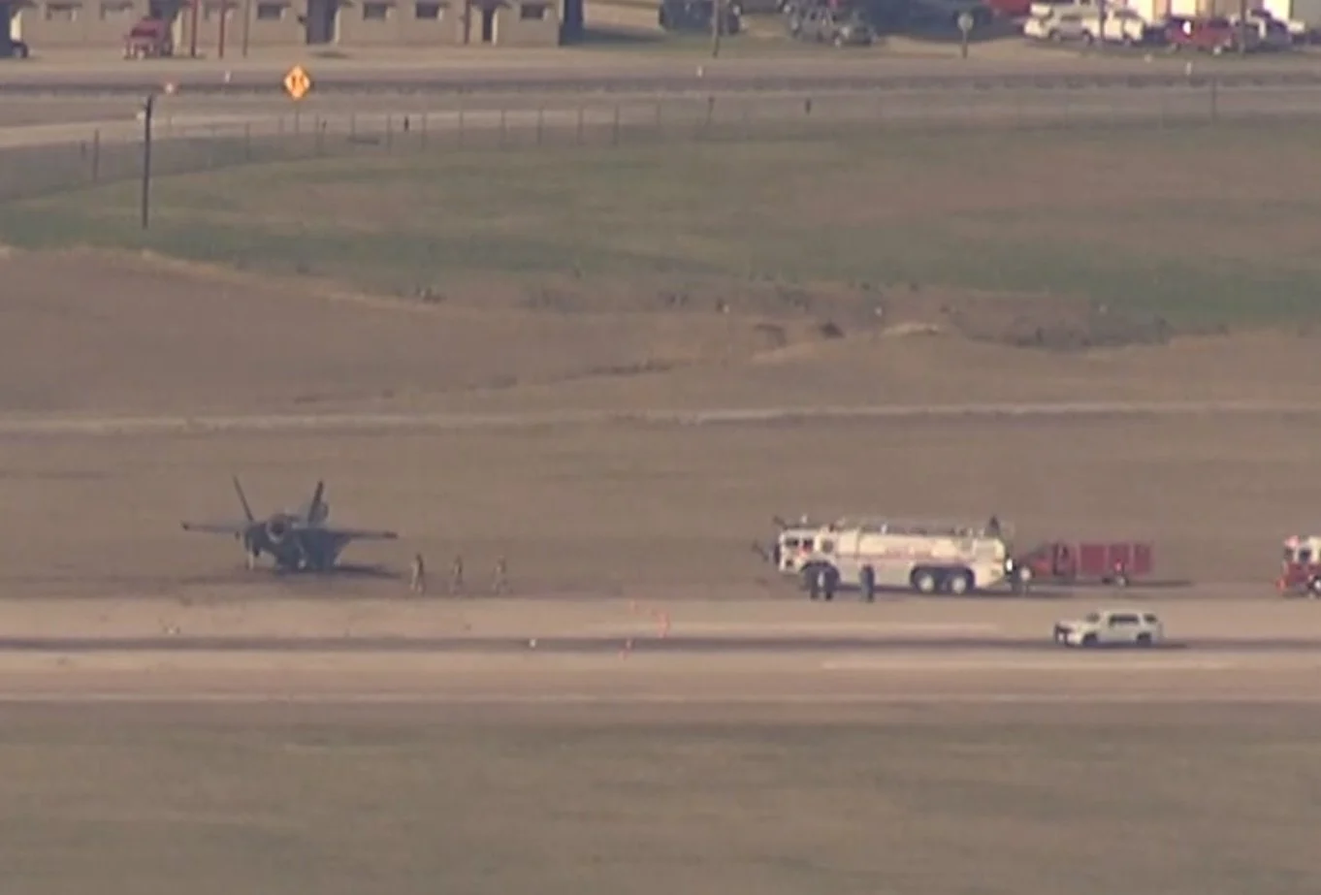F35: (173, 453, 411, 599)
